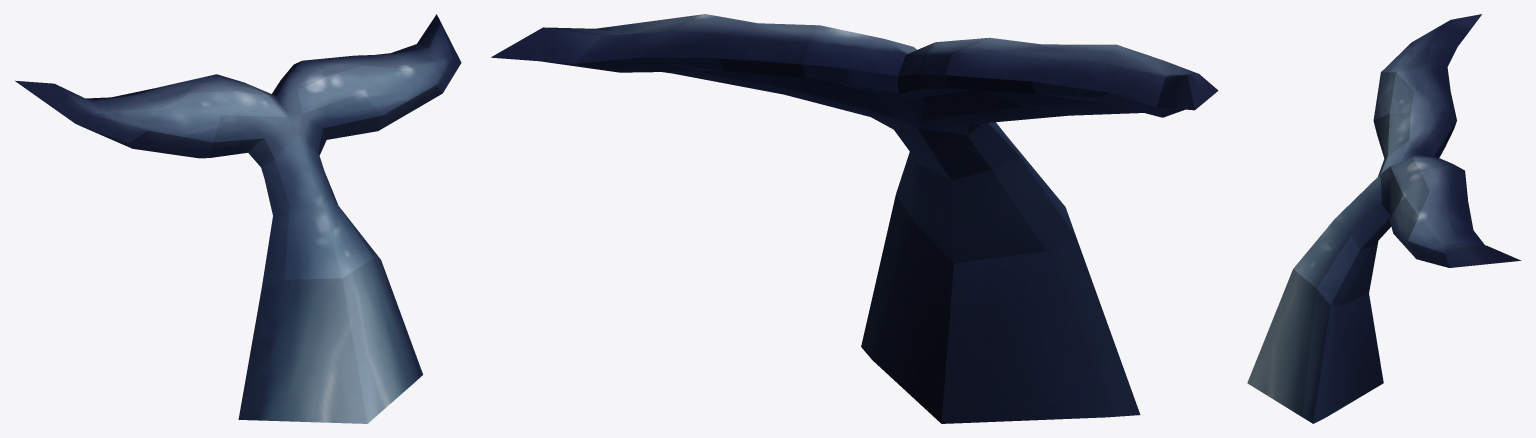
The model's file is whale.fbx.
3 views of the same model, side by side, from view 1: azimuth 30°, elevation 25°; view 2: azimuth 150°, elevation 25°; view 3: azimuth 270°, elevation 25° (orthographic). The views are drawn at different scales.
Parts seen in each view (by area): view 1: pPlane9; view 2: pPlane9; view 3: pPlane9.
Part boxes in pixels (x1,y1,x2,y2): pPlane9: [15, 14, 461, 423]; pPlane9: [491, 14, 1218, 423]; pPlane9: [1247, 14, 1520, 423].
Bounding box in the file's own units: 193 × 127 × 115.
1 material, 1 textured.
